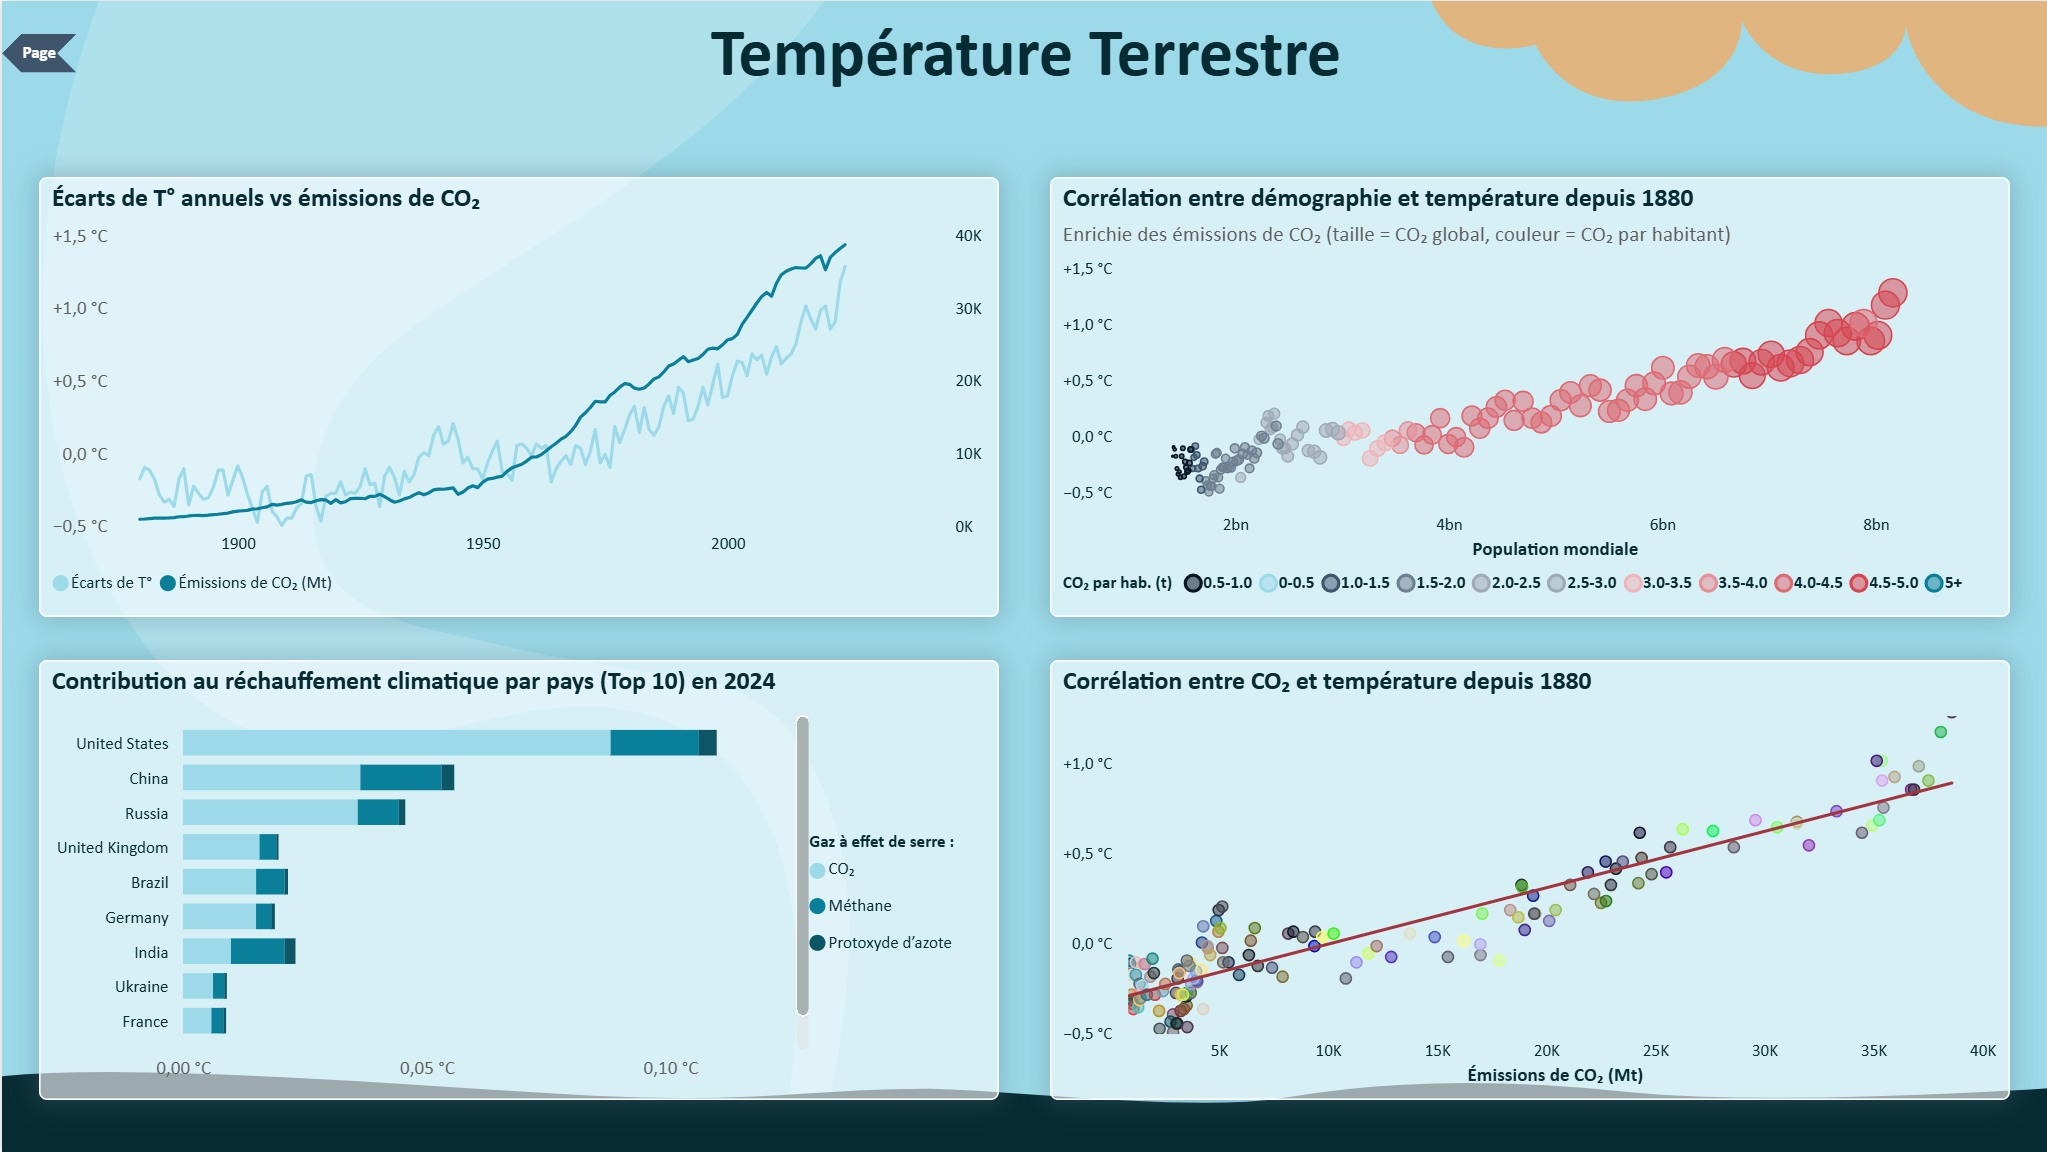

The dashboard page shown, as its layout file describes it:
{"tool":"powerbi","page":{"name":"Écarts de température vs CO₂","canvas":[1280,720],"ordinal":3},"visuals":[{"type":"textbox","box":[0,0,1280,63.8],"z":0},{"type":"shape","box":[0,20.6,46.6,24],"z":1000},{"type":"scatterChart","title":"Corrélation entre démographie et température depuis 1880","fields":{"Category":["Anomalies Températures LOTI.Year"],"Series":["owid-co2-data.CO2_per_capita Classe"],"Size":["Sum(owid-co2-data.co2)"],"X":["Model Measurres.Moyenne Population"],"Y":["Max(Anomalies Températures LOTI.écart T°)"]},"box":[654.8,110.2,599.7,274.8],"z":2000},{"type":"scatterChart","title":"Corrélation entre CO₂ et température depuis 1880","fields":{"Series":["Anomalies Températures LOTI.Year"],"X":["Sum(owid-co2-data.co2)"],"Y":["Anomalies Températures LOTI.écart T°"]},"box":[654.8,411.8,599.7,274.8],"z":3000},{"type":"lineChart","title":"Écarts de T° annuels vs émissions de CO₂","fields":{"Category":["Anomalies Températures LOTI.Year"],"Y":["Model Measurres.Moyenne Ecarts de T°"],"Y2":["Model Measurres.Moyenne CO2"]},"box":[23.3,110.2,599.7,274.8],"z":4000},{"type":"barChart","title":"Contribution au réchauffement climatique par pays (Top 10) en 2024","fields":{"Category":["owid-co2-data.Nom"],"Y":["Avg(owid-co2-data.temperature_change_from_co2)","Avg(owid-co2-data.temperature_change_from_ch4)","Avg(owid-co2-data.temperature_change_from_n2o)"]},"box":[23.3,411.8,600.4,274.8],"z":6000}]}

Visuals, with their boxes in screenshot pixels (x1, y1, x2, y2), scaled from the page's 1280x720 canvas onto the 2047x1152 screenshot:
textbox: <bbox>0, 0, 2046, 102</bbox>
shape: <bbox>0, 33, 75, 71</bbox>
"Corrélation entre démographie et température depuis 1880" scatterChart: <bbox>1047, 176, 2006, 616</bbox>
"Corrélation entre CO₂ et température depuis 1880" scatterChart: <bbox>1047, 659, 2006, 1099</bbox>
"Écarts de T° annuels vs émissions de CO₂" lineChart: <bbox>37, 176, 996, 616</bbox>
"Contribution au réchauffement climatique par pays (Top 10) en 2024" barChart: <bbox>37, 659, 997, 1099</bbox>
